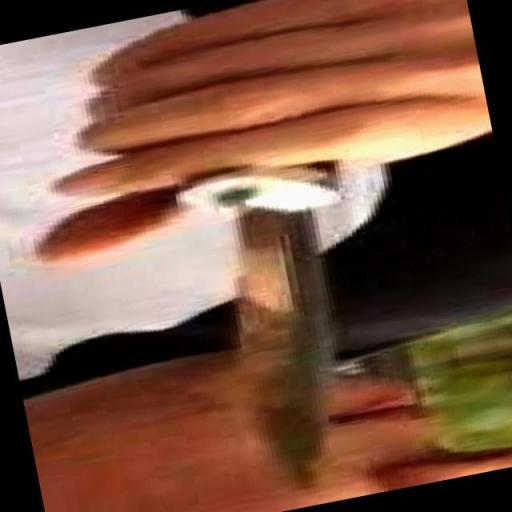knife: (166, 70, 420, 512)
